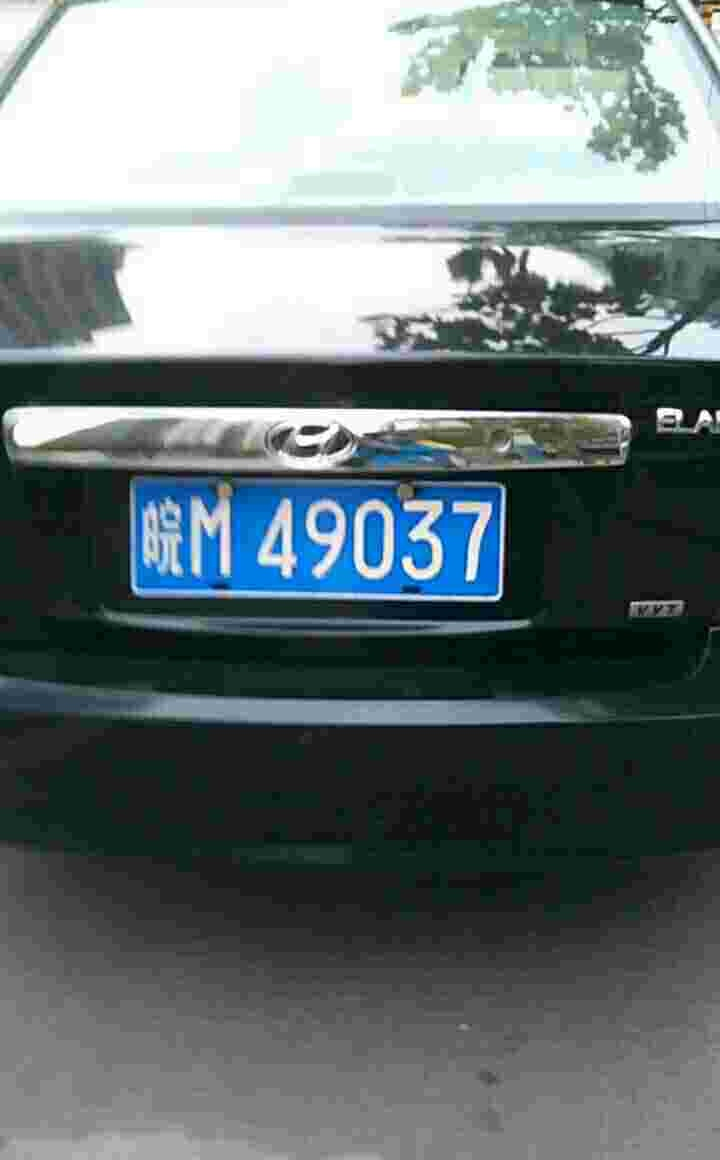license_plate: (139, 479, 489, 602)
